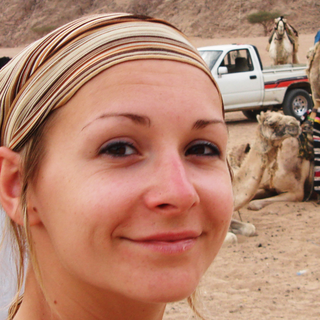eye: (87, 135, 147, 165), (178, 135, 225, 163)
